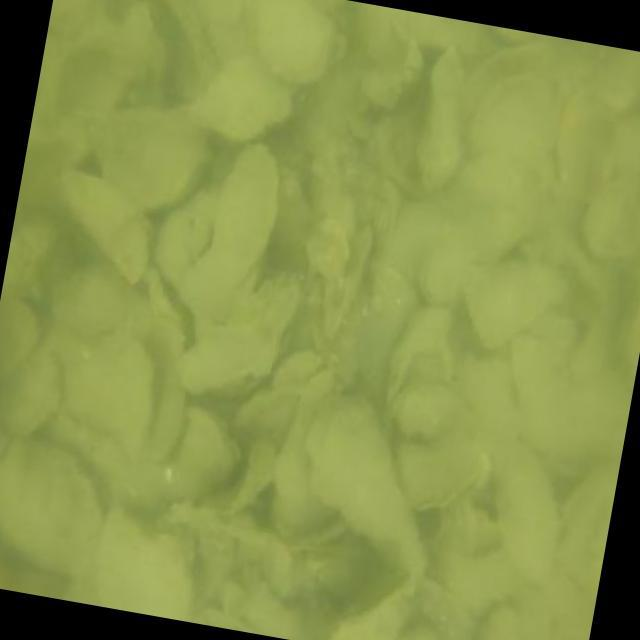Oyster- Indeterminate: (310, 391, 425, 586), (168, 145, 276, 323), (0, 434, 108, 569), (93, 96, 207, 210), (271, 360, 335, 531), (102, 505, 193, 622), (58, 173, 148, 285), (189, 43, 292, 137), (497, 440, 561, 577), (464, 68, 558, 161), (466, 260, 560, 347), (415, 46, 464, 200), (396, 427, 488, 506), (247, 0, 330, 83), (562, 463, 617, 587), (52, 253, 129, 337), (168, 402, 229, 499), (389, 302, 452, 390), (332, 574, 414, 640), (0, 354, 61, 434), (152, 193, 208, 279), (392, 388, 467, 438), (235, 389, 296, 441), (416, 245, 457, 298), (480, 600, 526, 640)
